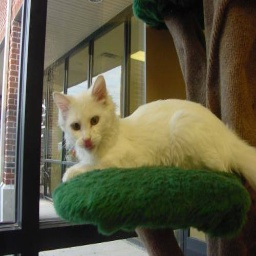cat: (52, 72, 256, 201)
